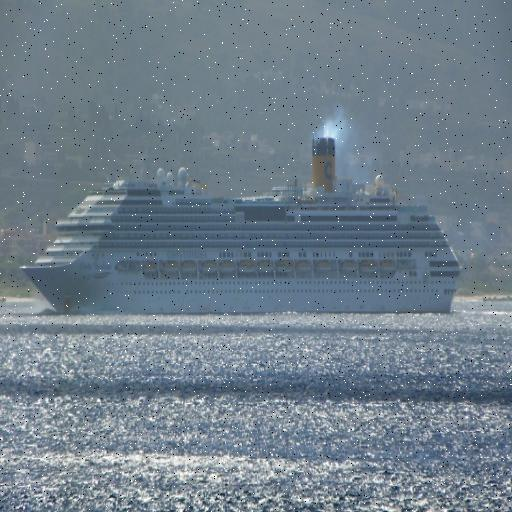cruises: (19, 129, 464, 325)
